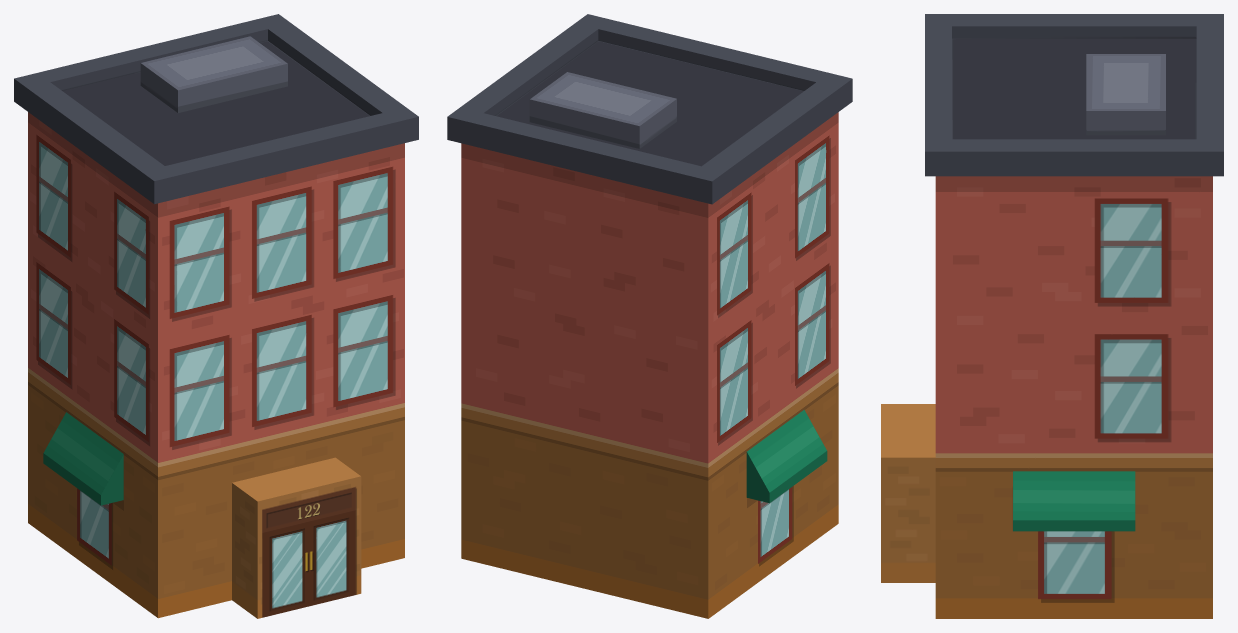
The model's file is city_apartment_block.fbx.
3 renders of one model, left to right at view 1: azimuth 30°, elevation 25°; view 2: azimuth 150°, elevation 25°; view 3: azimuth 270°, elevation 25°, orthographic. The views are drawn at different scales.
Visible parts, largest first — view 1: city:polySurface336; view 2: city:polySurface336; view 3: city:polySurface336.
Boxes of the visible parts, left/top/right/bottom form: city:polySurface336: left=14, top=14, right=418, bottom=618; city:polySurface336: left=447, top=14, right=852, bottom=618; city:polySurface336: left=881, top=14, right=1223, bottom=618.
Size of the model in its own units: 6.7 by 9.95 by 6.39.
